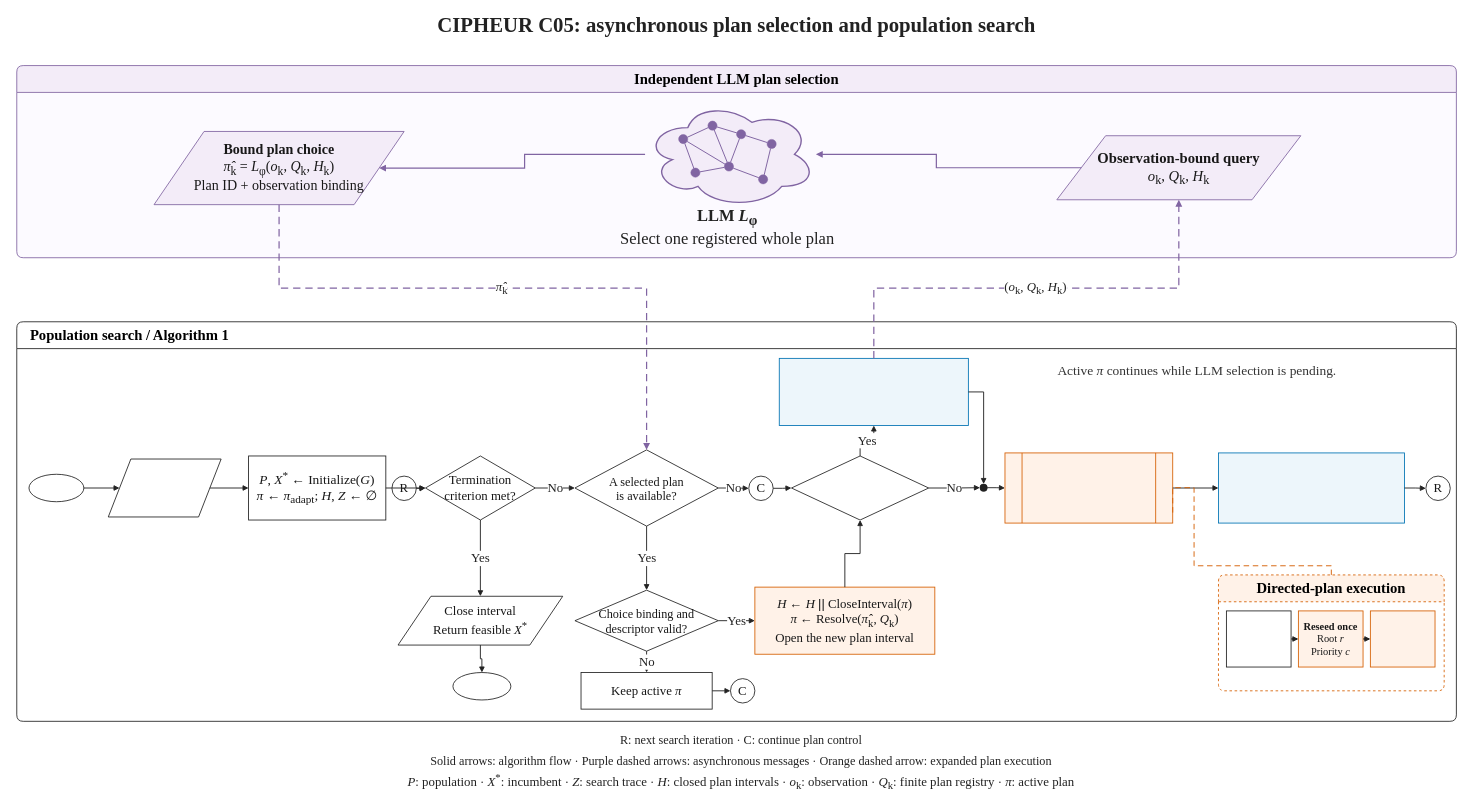
This 1473x802 diagram has some shape labels left out. Each missing label, with the box of its shape:
AdvancePlan ( G , P , X * , π ) Algorithm 3: (1004, 452, 1173, 523)
End: (452, 672, 511, 700)
I → ( G , w ) Resource metadata: (108, 458, 221, 517)
New decision due and none pending?: (791, 455, 929, 520)
o k ← Observe( P , X * , Z , H ) Q k ← BuildRegistry( o k ) Algorithm 2: (779, 358, 968, 426)
Protect X * Validate ( j , r , c ): (1226, 610, 1291, 667)
Recovery spread / merge: (1370, 610, 1435, 667)
Start: (28, 474, 84, 502)
Update P , X * , Z Track incumbent and population effects Preserve feasibility: (1218, 452, 1405, 523)
